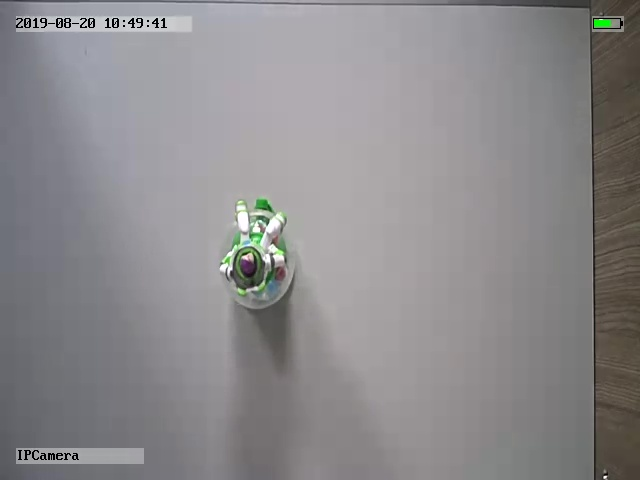buzz: (216, 195, 297, 314)
